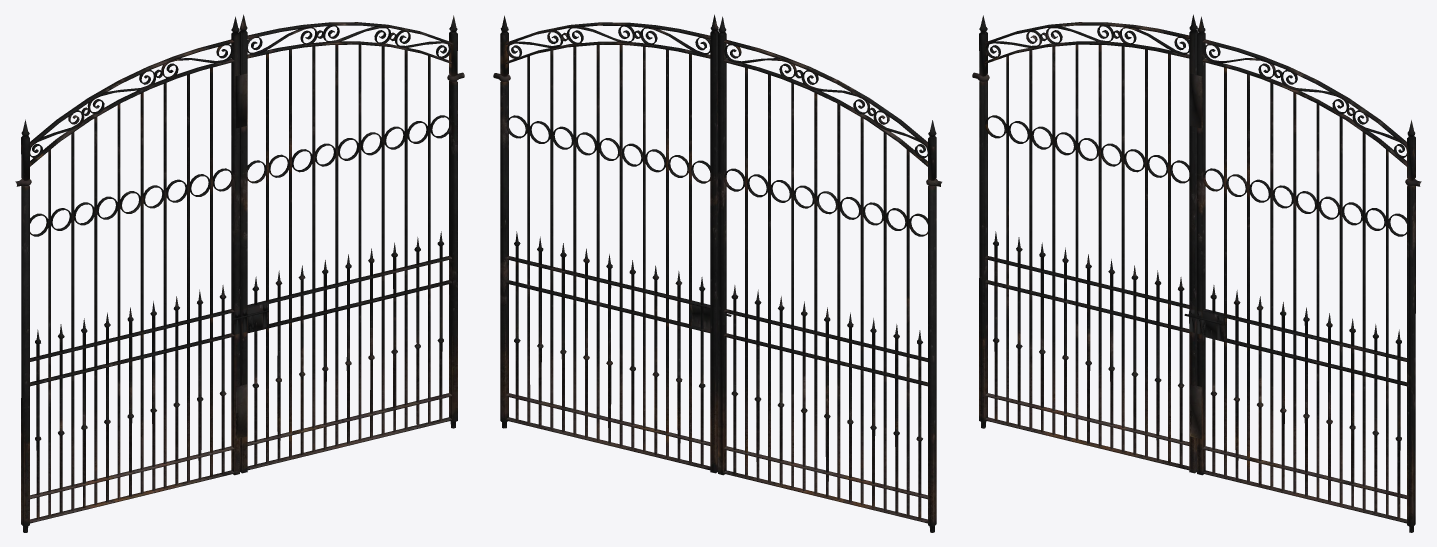
The model's file is large-iron-gate.glb.
3 renders of one model, left to right at view 1: azimuth 30°, elevation 25°; view 2: azimuth 150°, elevation 25°; view 3: azimuth 330°, elevation 25°, orthographic.
Visible parts, largest first — view 1: large_iron_gate_right_door; view 2: large_iron_gate_right_door; view 3: large_iron_gate_right_door.
Boxes of the visible parts, <box> form: large_iron_gate_right_door: <box>15,14,464,532</box>; large_iron_gate_right_door: <box>493,14,941,532</box>; large_iron_gate_right_door: <box>972,14,1421,532</box>.
Bounding box in the file's own units: 2.95 × 2.93 × 0.0962.
1 material, 1 textured.
